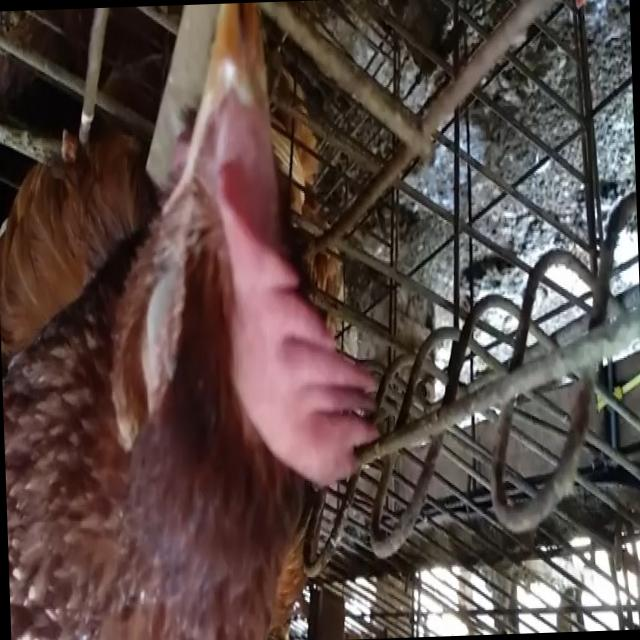bird flu: (0, 0, 358, 640)
